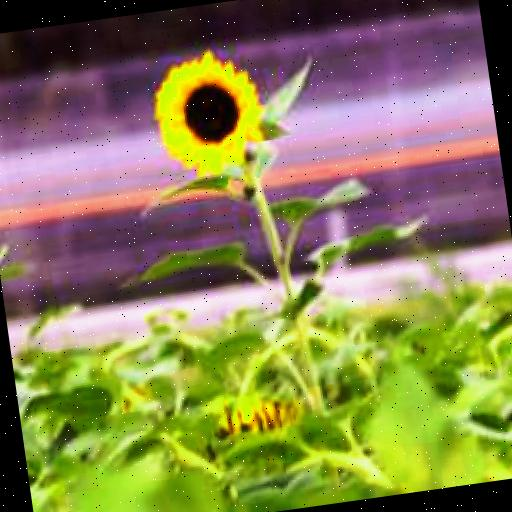sunflower: (154, 50, 264, 174)
